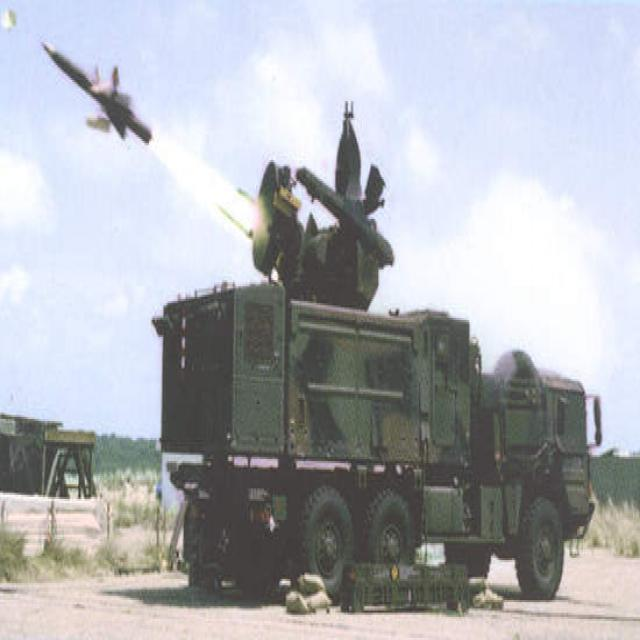Missile: (41, 35, 159, 156)
